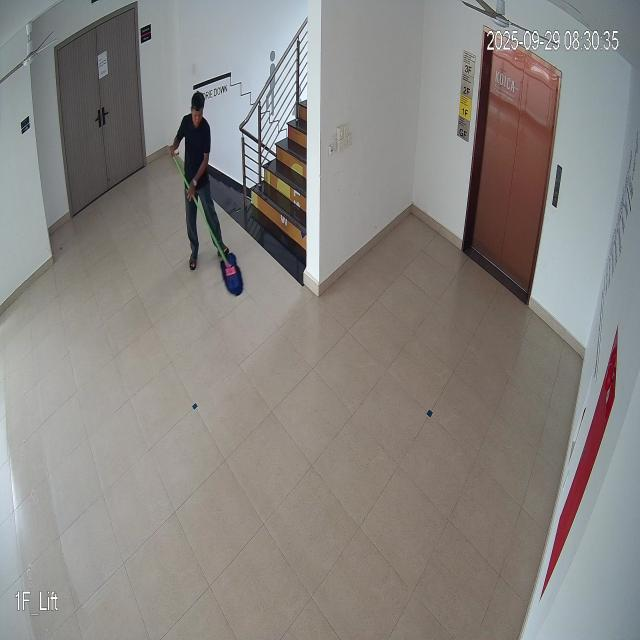face: (190, 90, 206, 129)
